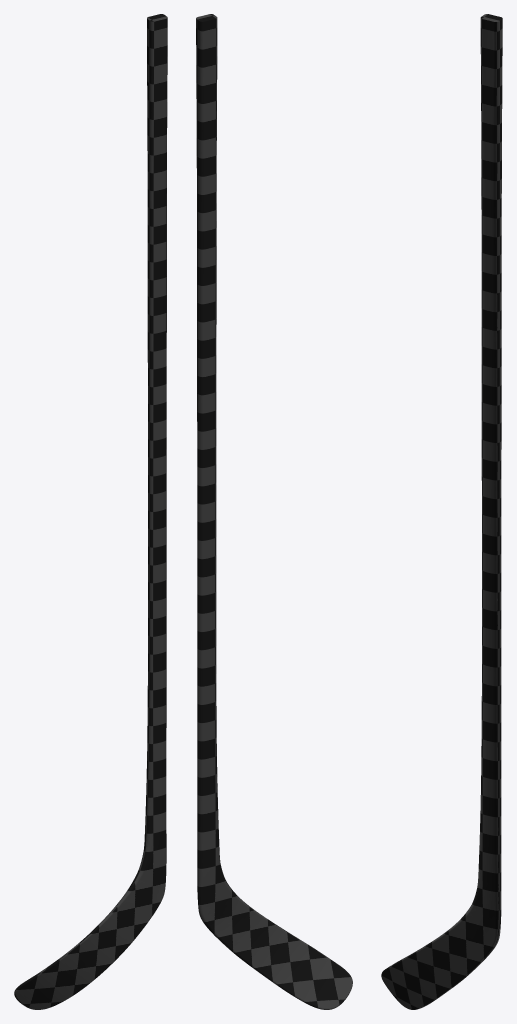
File: P41-SBO.glb
3 renders of one model, left to right at view 1: azimuth 30°, elevation 25°; view 2: azimuth 210°, elevation 25°; view 3: azimuth 330°, elevation 25°, orthographic. The views are drawn at different scales.
Visible parts, largest first — view 1: geometry_0; view 2: geometry_0; view 3: geometry_0.
Part boxes in pixels (x1,y1,x2,y2): geometry_0: (14,14,167,1009); geometry_0: (196,14,352,1009); geometry_0: (381,14,502,1009).
Size of the model in its own units: 233 by 1650 by 75.28.
Materials: 1 (1 with a texture image).
